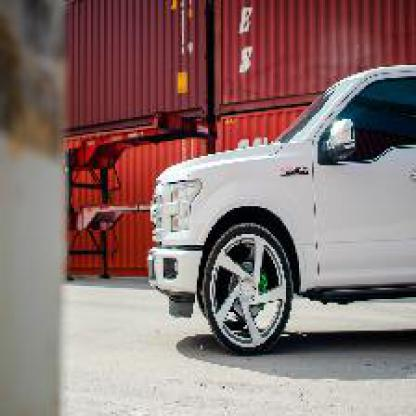not_emergency: (134, 69, 414, 375)
